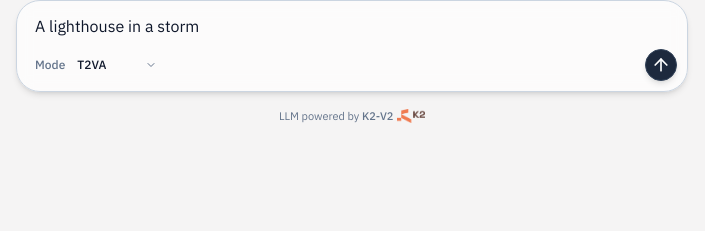
ChatBar generation mode selection › defaults to T2VA and reports a selected mode
The width and height of the screenshot is (705, 231).
Click the dropdown named "Generation mode": (117, 65) top-left (69, 49), bottom-right (165, 81)
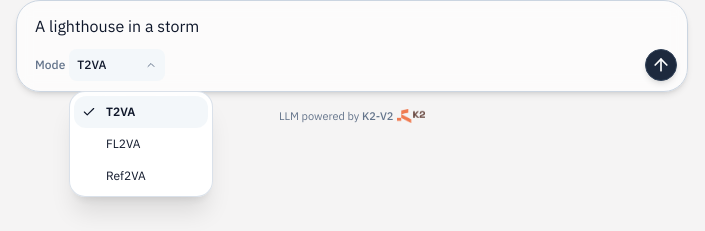
Click the option "Ref2VA": (126, 176) top-left (106, 168), bottom-right (146, 183)
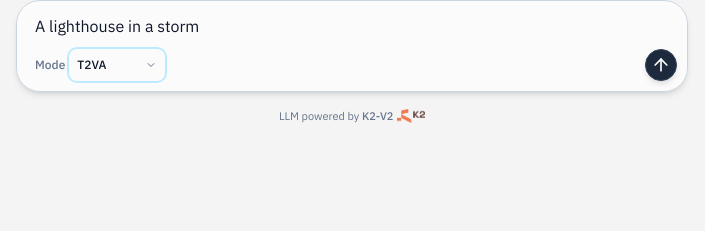
Expected: the list is gone
